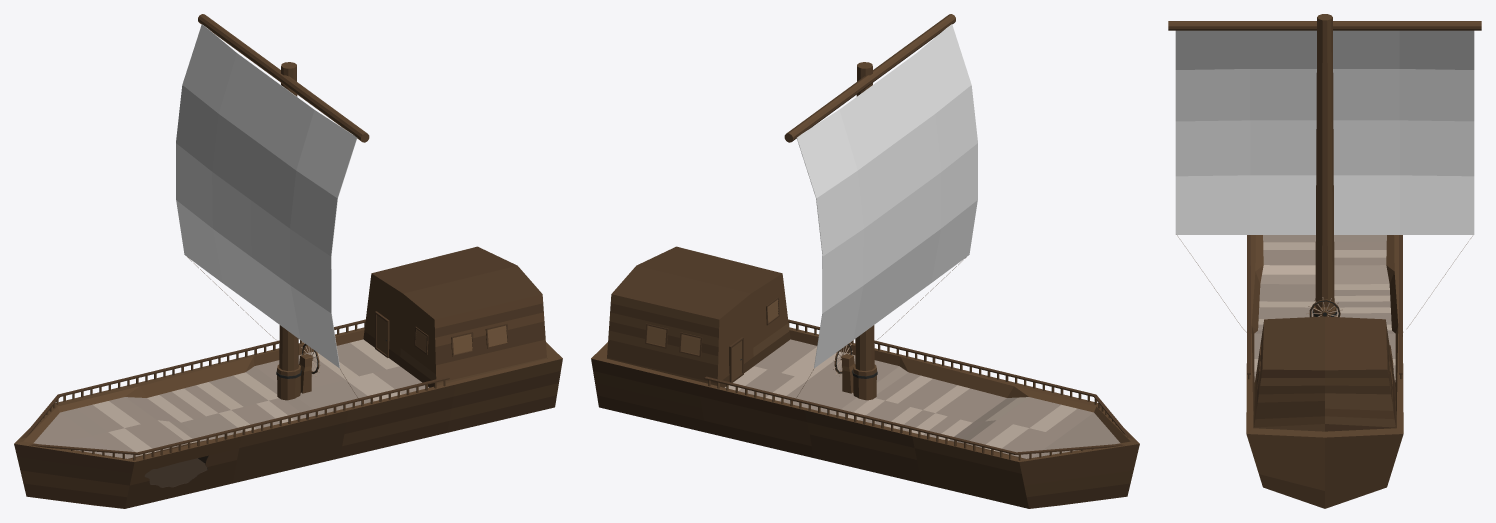
File: ProtagonistsShip_Broken.fbx
3 views of the same model, side by side, from view 1: azimuth 30°, elevation 25°; view 2: azimuth 150°, elevation 25°; view 3: azimuth 270°, elevation 25° (orthographic). The views are drawn at different scales.
Parts seen in each view (by area): view 1: Ship; view 2: Ship; view 3: Ship.
Part boxes in pixels (x1,y1,x2,y2): Ship: (14,14,562,508); Ship: (591,14,1139,508); Ship: (1168,14,1481,508).
Bounding box in the file's own units: 2925 × 2134 × 1600.
